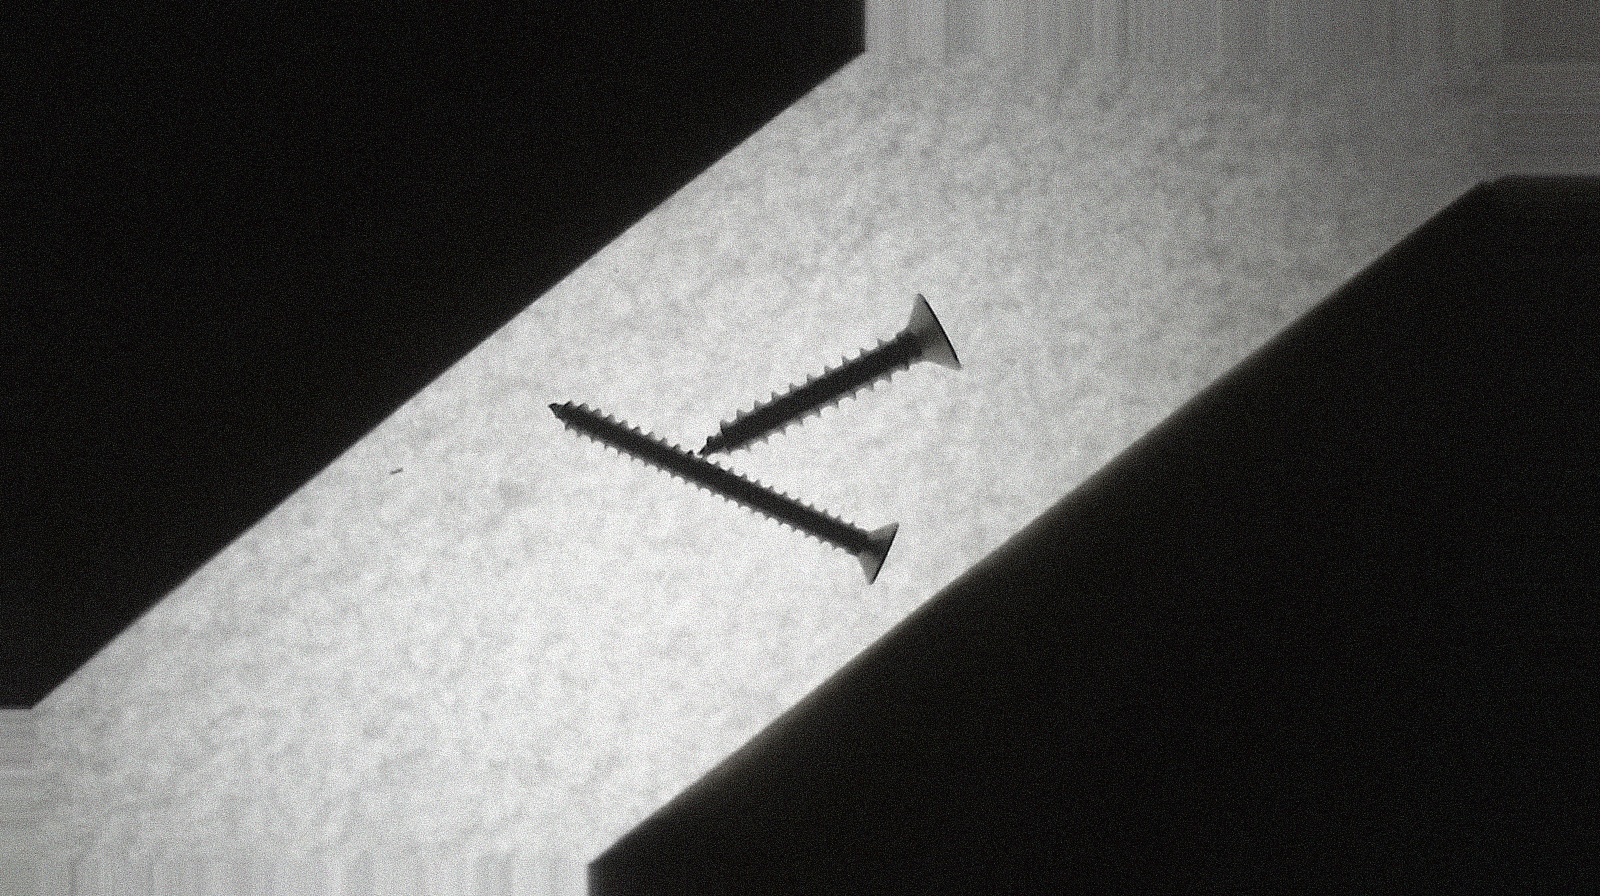S001: (693, 290, 966, 458)
S002: (542, 397, 900, 593)
